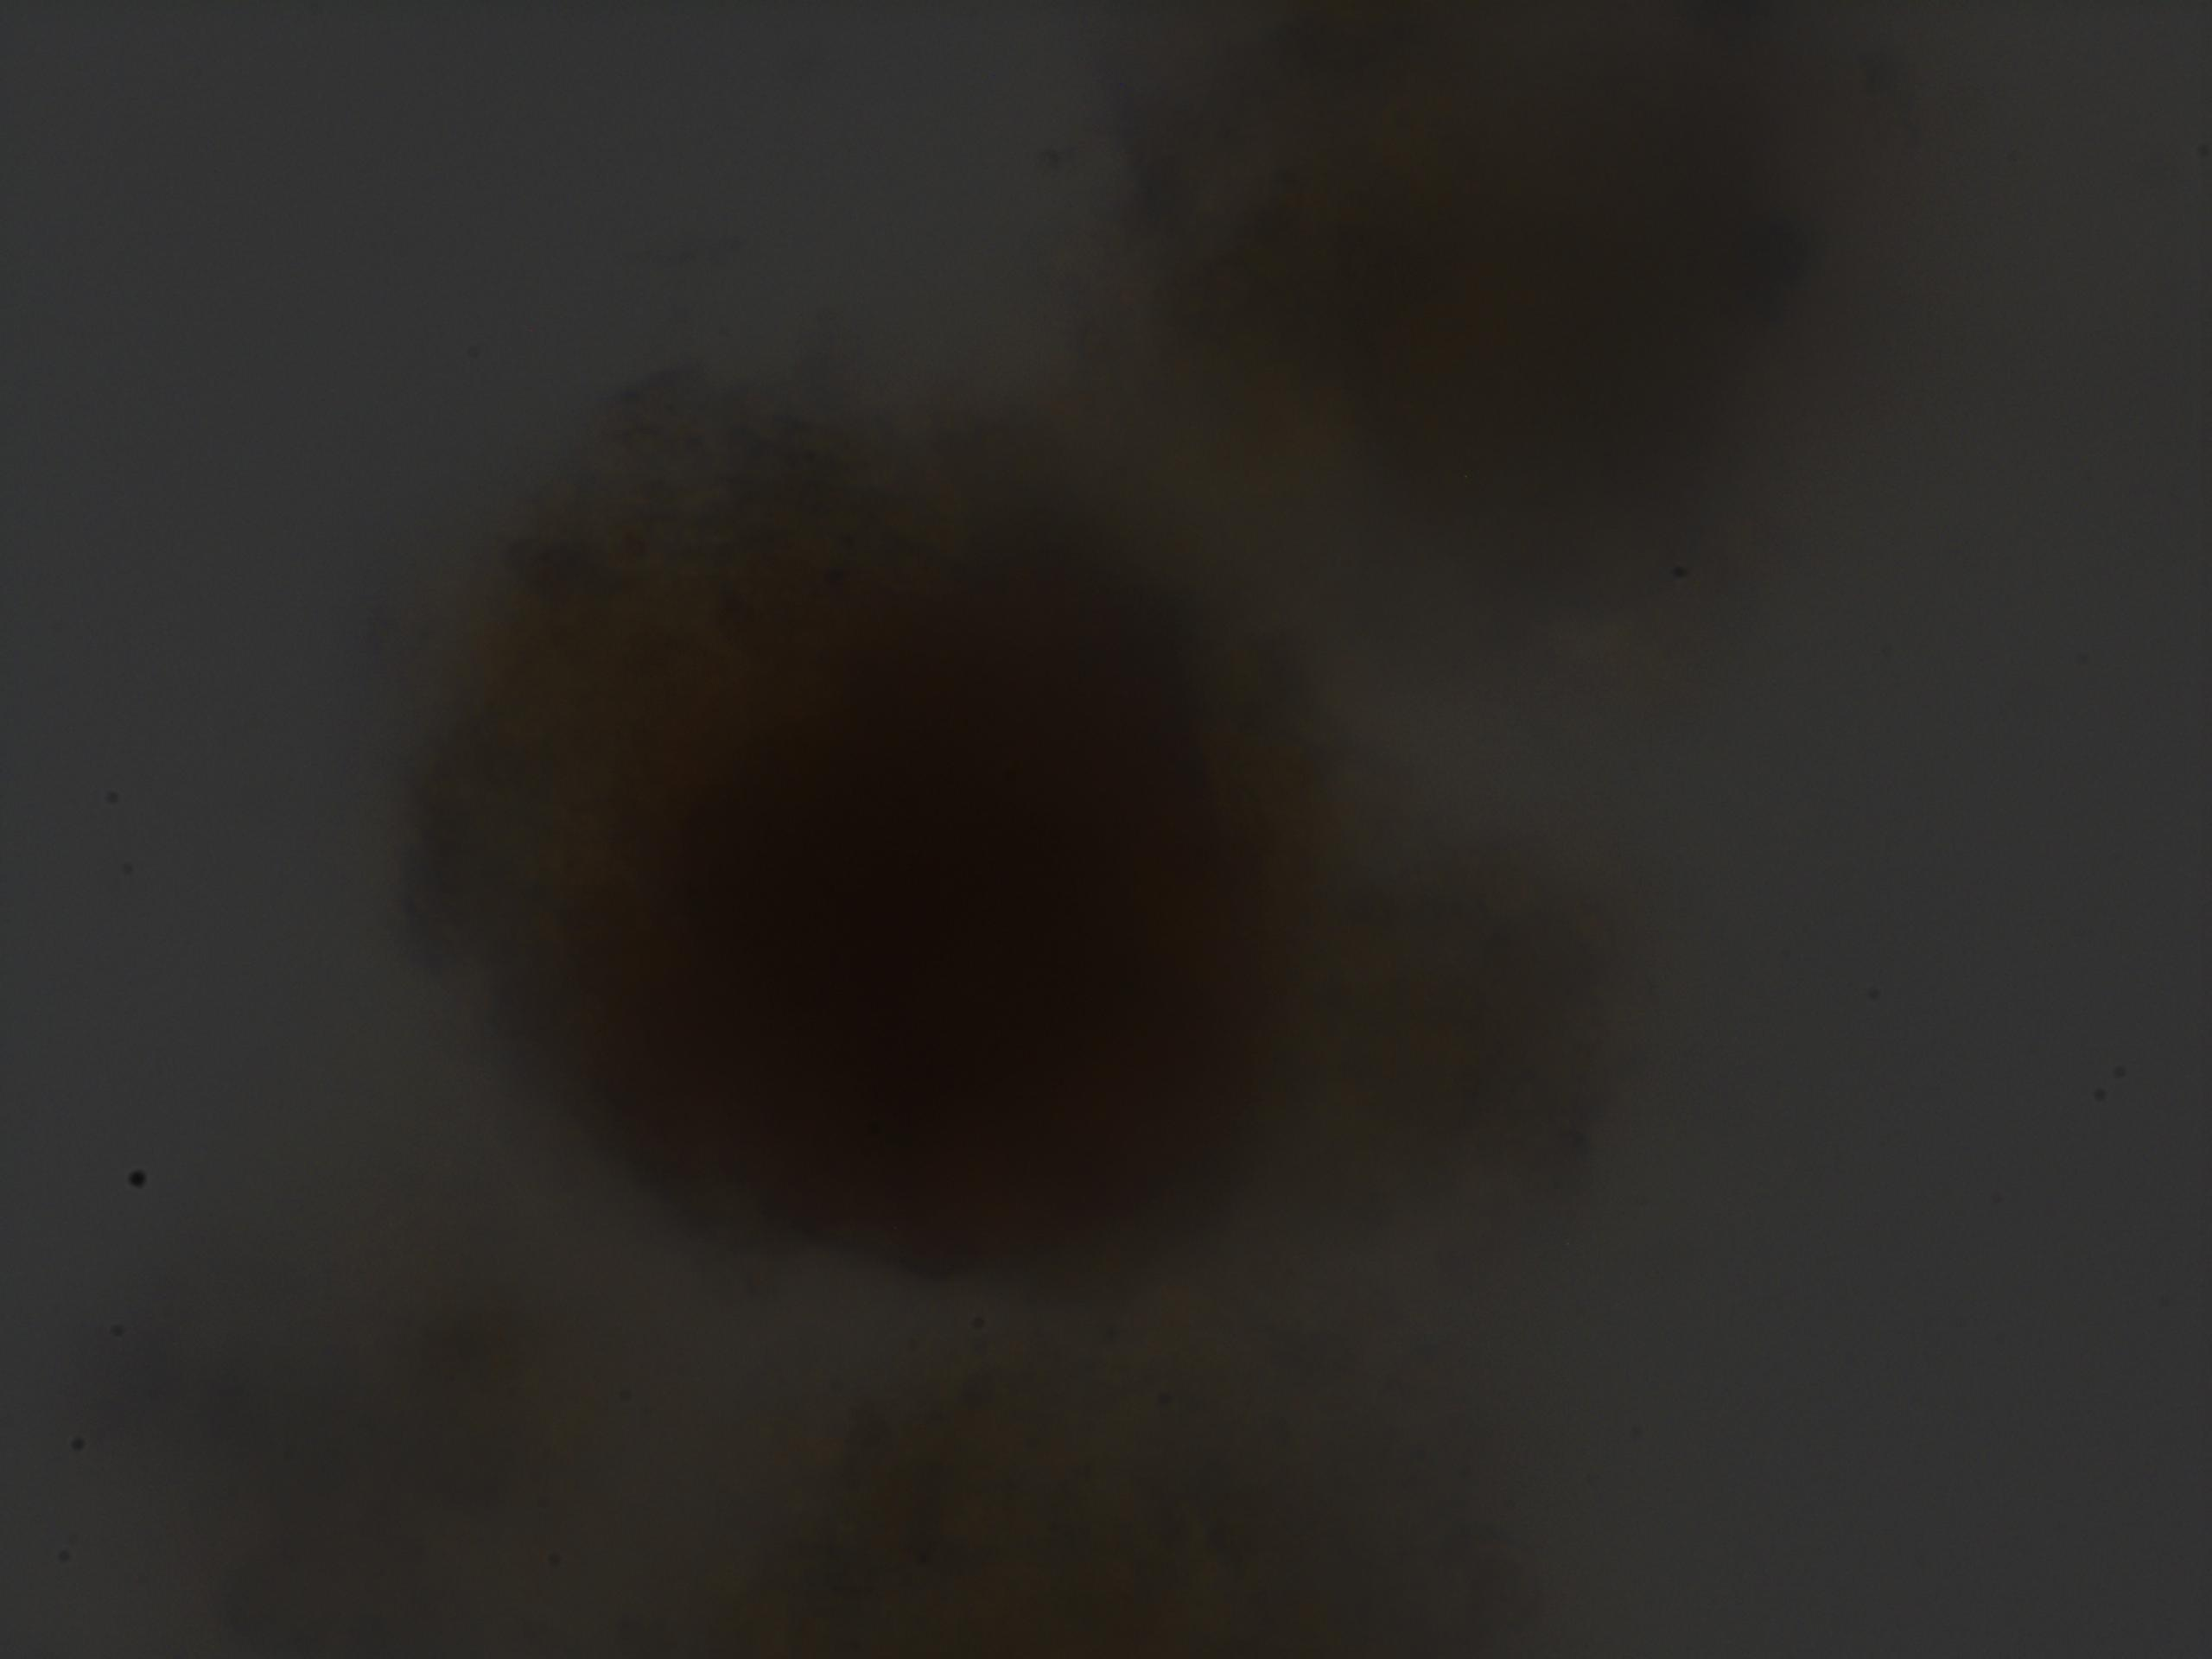spherical_floc: (388, 329, 1369, 1347)
